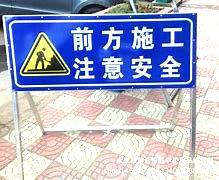sign: (3, 15, 199, 90)
